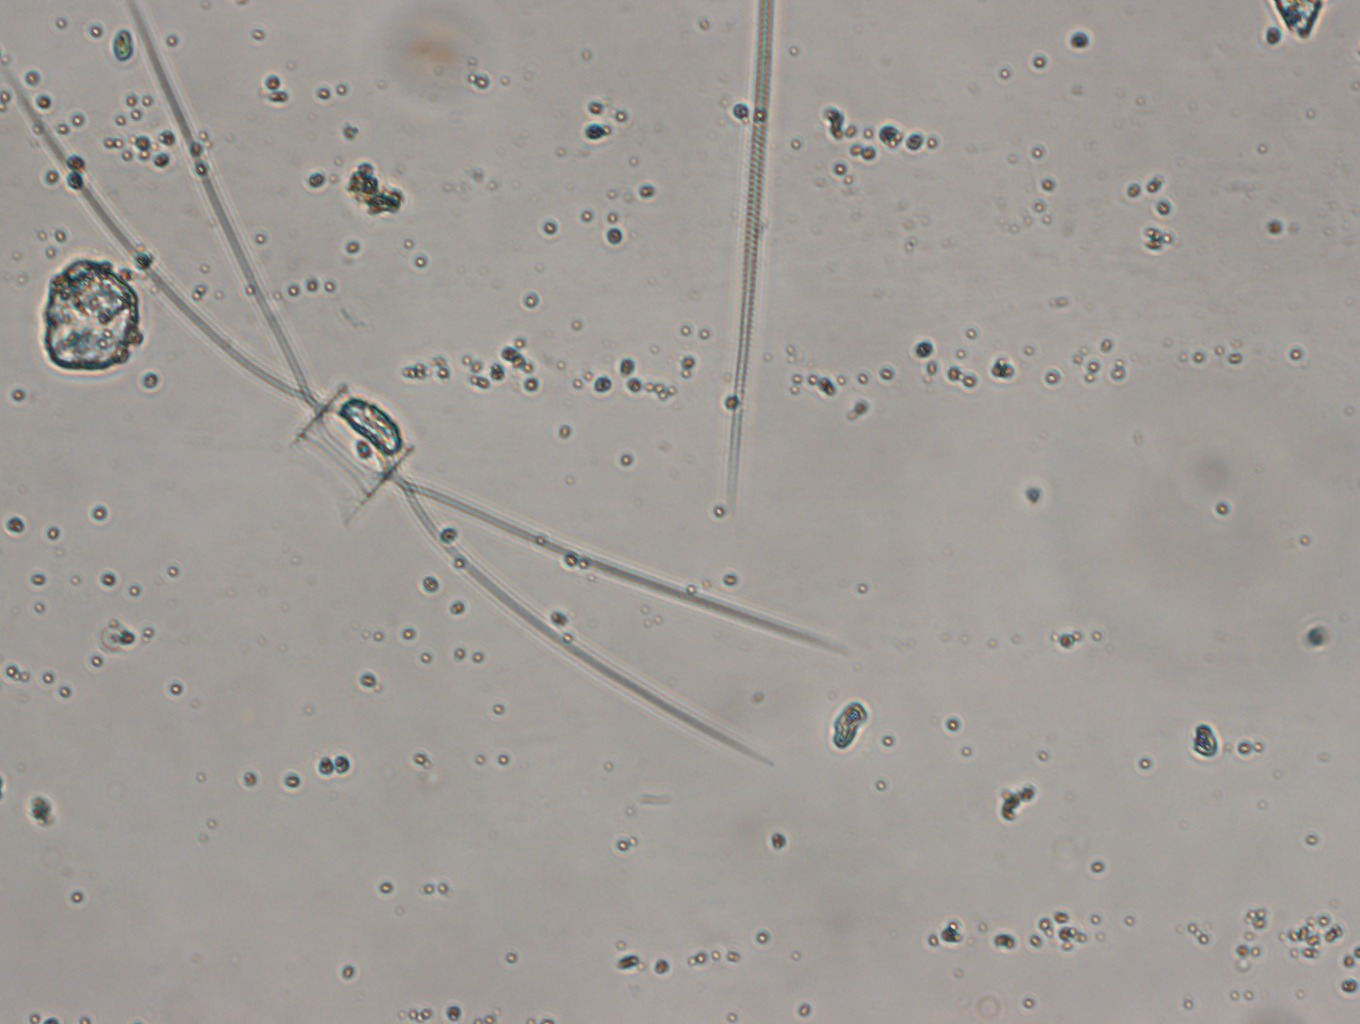chaetoceros: (18, 15, 822, 762)
